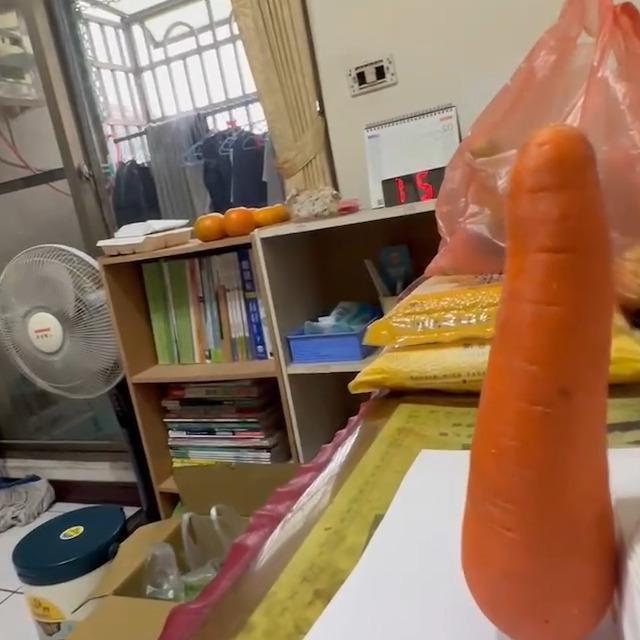carrot: (463, 125, 616, 640)
